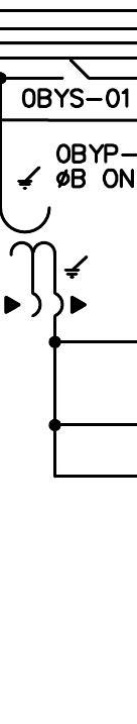115_ds: (60, 60, 90, 80)
